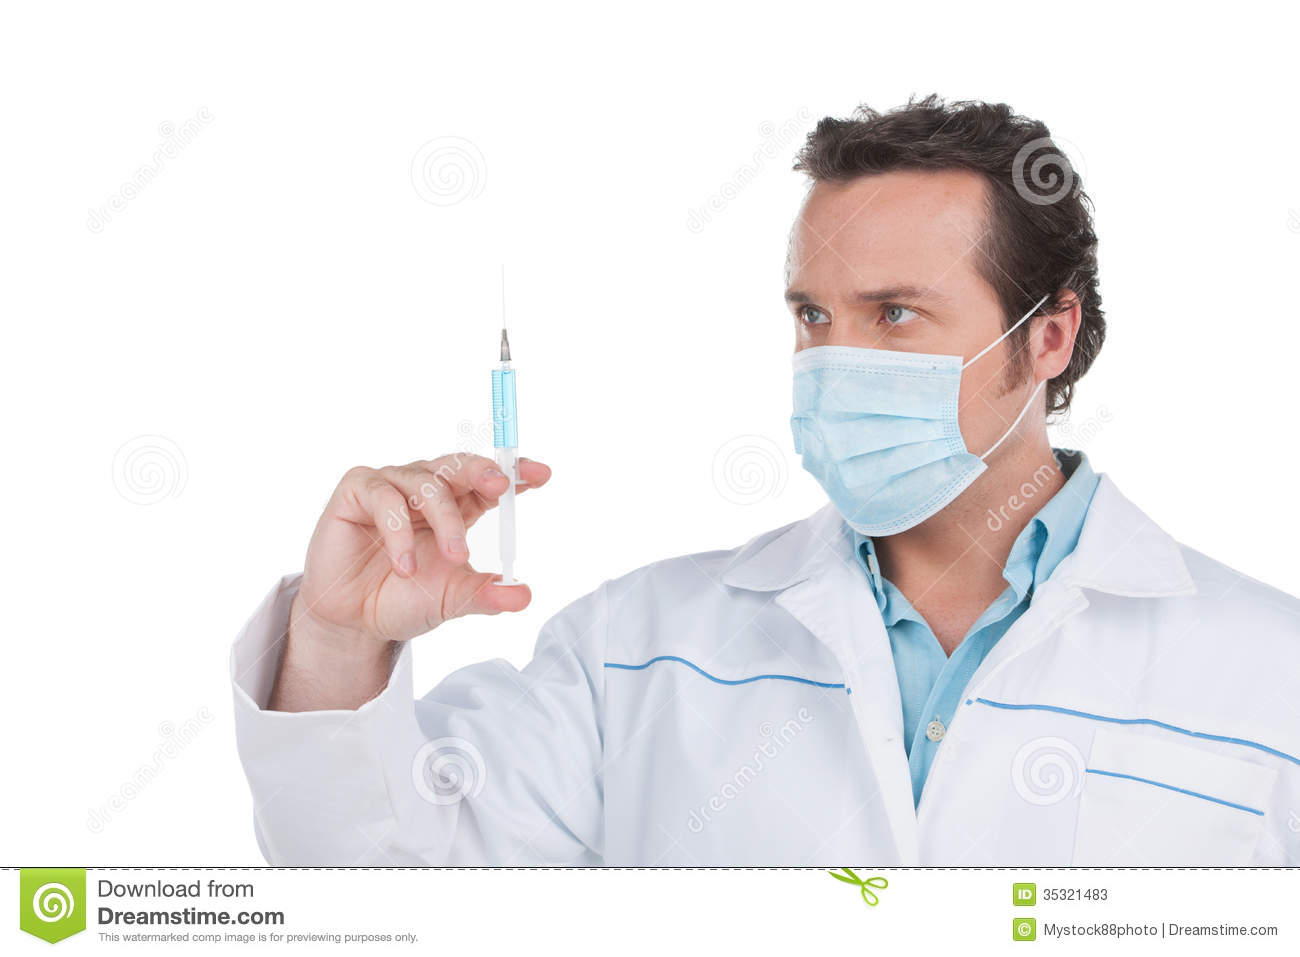mask: (775, 338, 997, 526)
